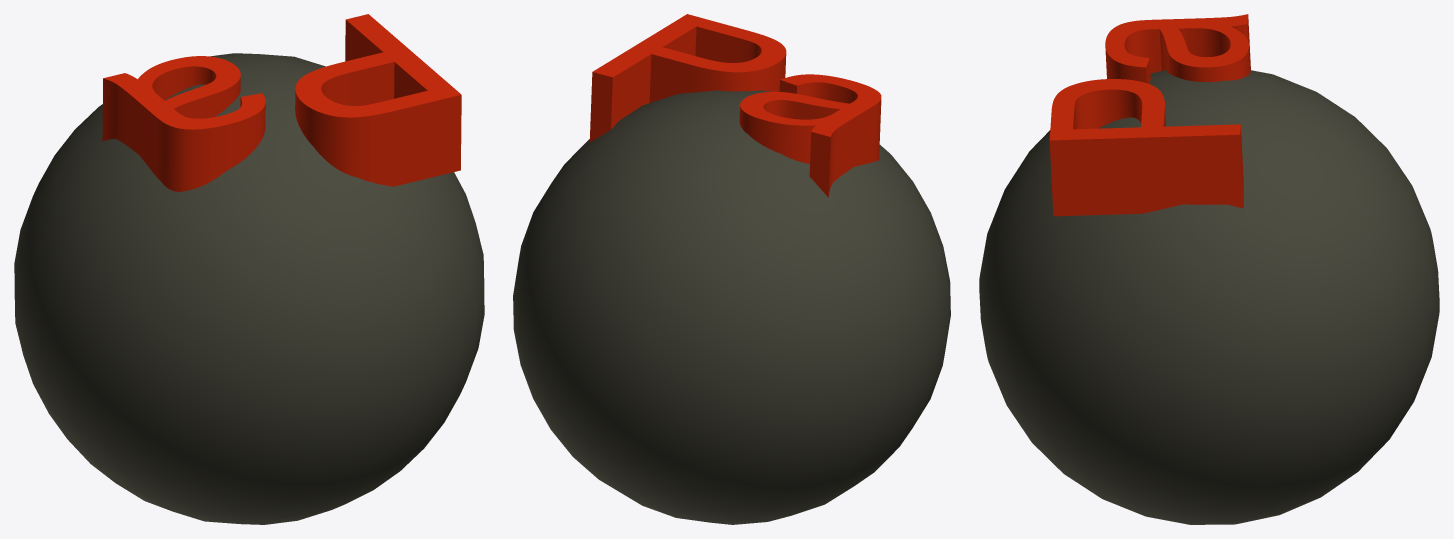
The picture shows the model from 3 angles, left to right: view 1: azimuth 30°, elevation 25°; view 2: azimuth 150°, elevation 25°; view 3: azimuth 270°, elevation 25°; orthographic projection. The views are drawn at different scales.
Visible parts, largest first — view 1: Pa; view 2: Pa; view 3: Pa.
Boxes of the visible parts, <box> form: Pa: <box>14,14,484,524</box>; Pa: <box>513,14,950,524</box>; Pa: <box>979,14,1439,524</box>.
Bounding box in the file's own units: 38.74 × 40.17 × 38.68.
